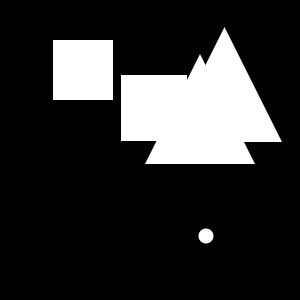circle: (121, 75, 187, 141), (53, 40, 113, 100)
rectangle: (198, 228, 214, 244)
triangle: (167, 27, 282, 142), (145, 54, 255, 164)
